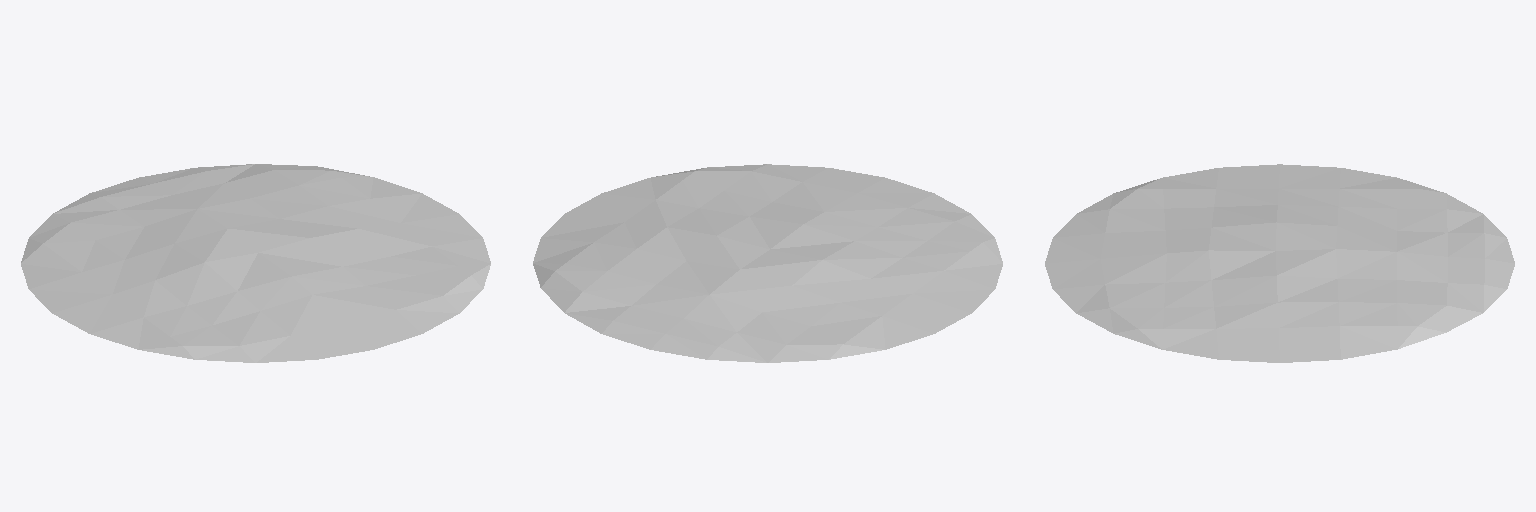
The model's file is newS.obj.
The picture shows the model from 3 angles: view 1: azimuth 30°, elevation 25°; view 2: azimuth 150°, elevation 25°; view 3: azimuth 270°, elevation 25°; orthographic projection.
Parts seen in each view (by area): view 1: pasted__pCylinder1 group; view 2: pasted__pCylinder1 group; view 3: pasted__pCylinder1 group.
Part boxes in pixels (x1,y1,x2,y2): pasted__pCylinder1 group: (21, 164, 490, 362); pasted__pCylinder1 group: (533, 164, 1002, 362); pasted__pCylinder1 group: (1045, 164, 1514, 362).
Size of the model in its own units: 22.39 by 0.8161 by 22.39.